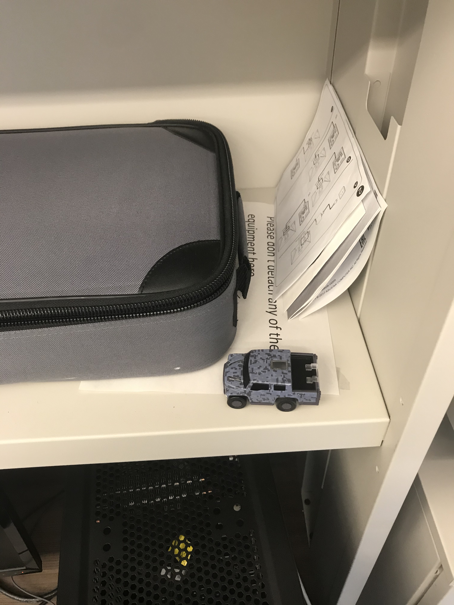MXT: (223, 349, 322, 412)
